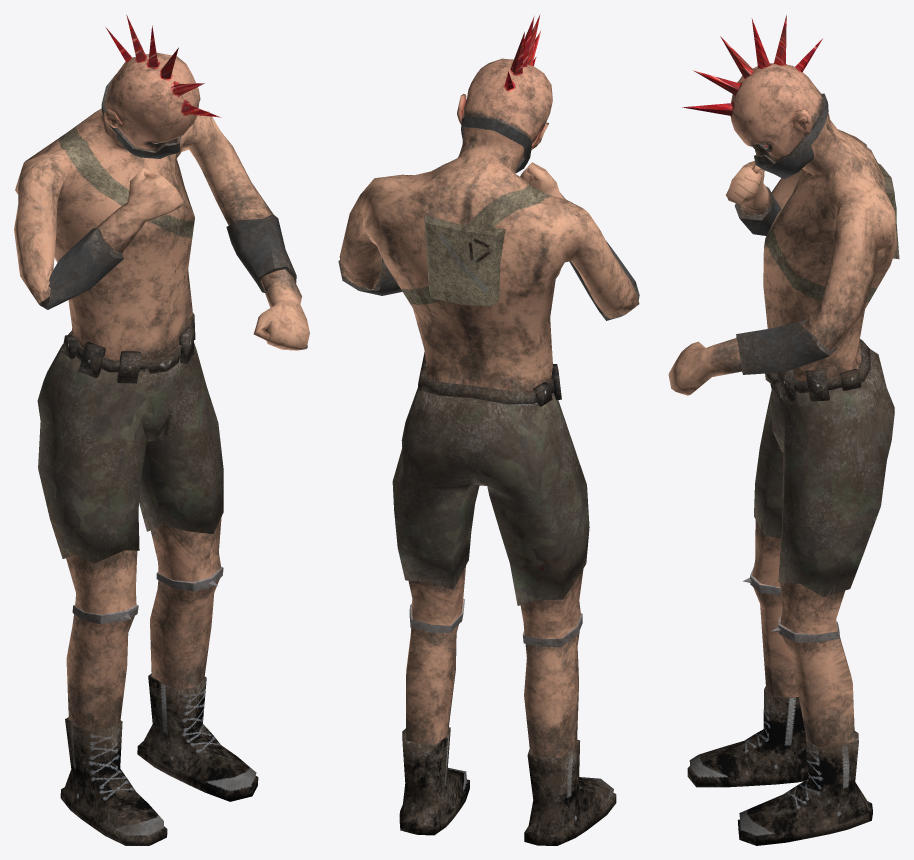
The model's file is Anim_perder_1_npc2.0041.obj.
3 views of the same model, side by side, from view 1: azimuth 30°, elevation 25°; view 2: azimuth 150°, elevation 25°; view 3: azimuth 270°, elevation 25° (orthographic). The views are drawn at different scales.
Visible parts, largest first — view 1: polySurface1; view 2: polySurface1; view 3: polySurface1.
Boxes of the visible parts, box(x1,y1,x2,y2) form: polySurface1: box(14, 15, 309, 845); polySurface1: box(338, 14, 639, 845); polySurface1: box(668, 15, 899, 845).
Size of the model in its own units: 3.51 by 9.8 by 2.64.
